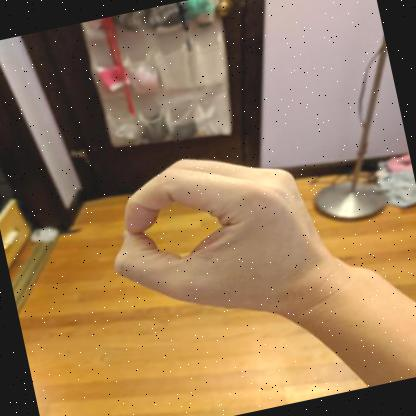O: (114, 159, 343, 314)
